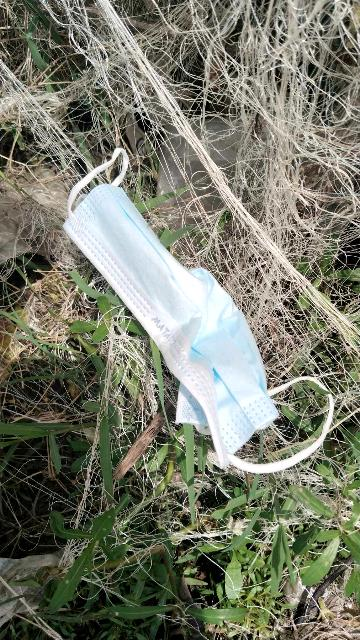mask: (48, 126, 351, 500)
